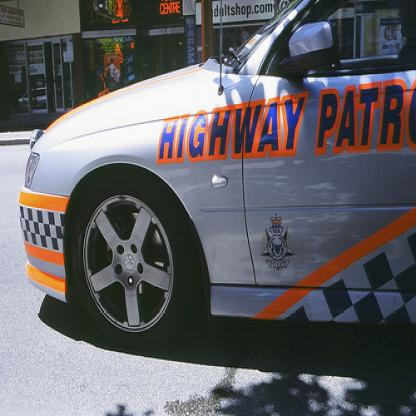car: (19, 1, 416, 350)
